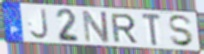2: (55, 7, 81, 44)
J: (29, 8, 51, 41)
N: (81, 9, 111, 44)
R: (109, 13, 139, 44)
S: (167, 14, 195, 48)
T: (140, 12, 164, 47)
